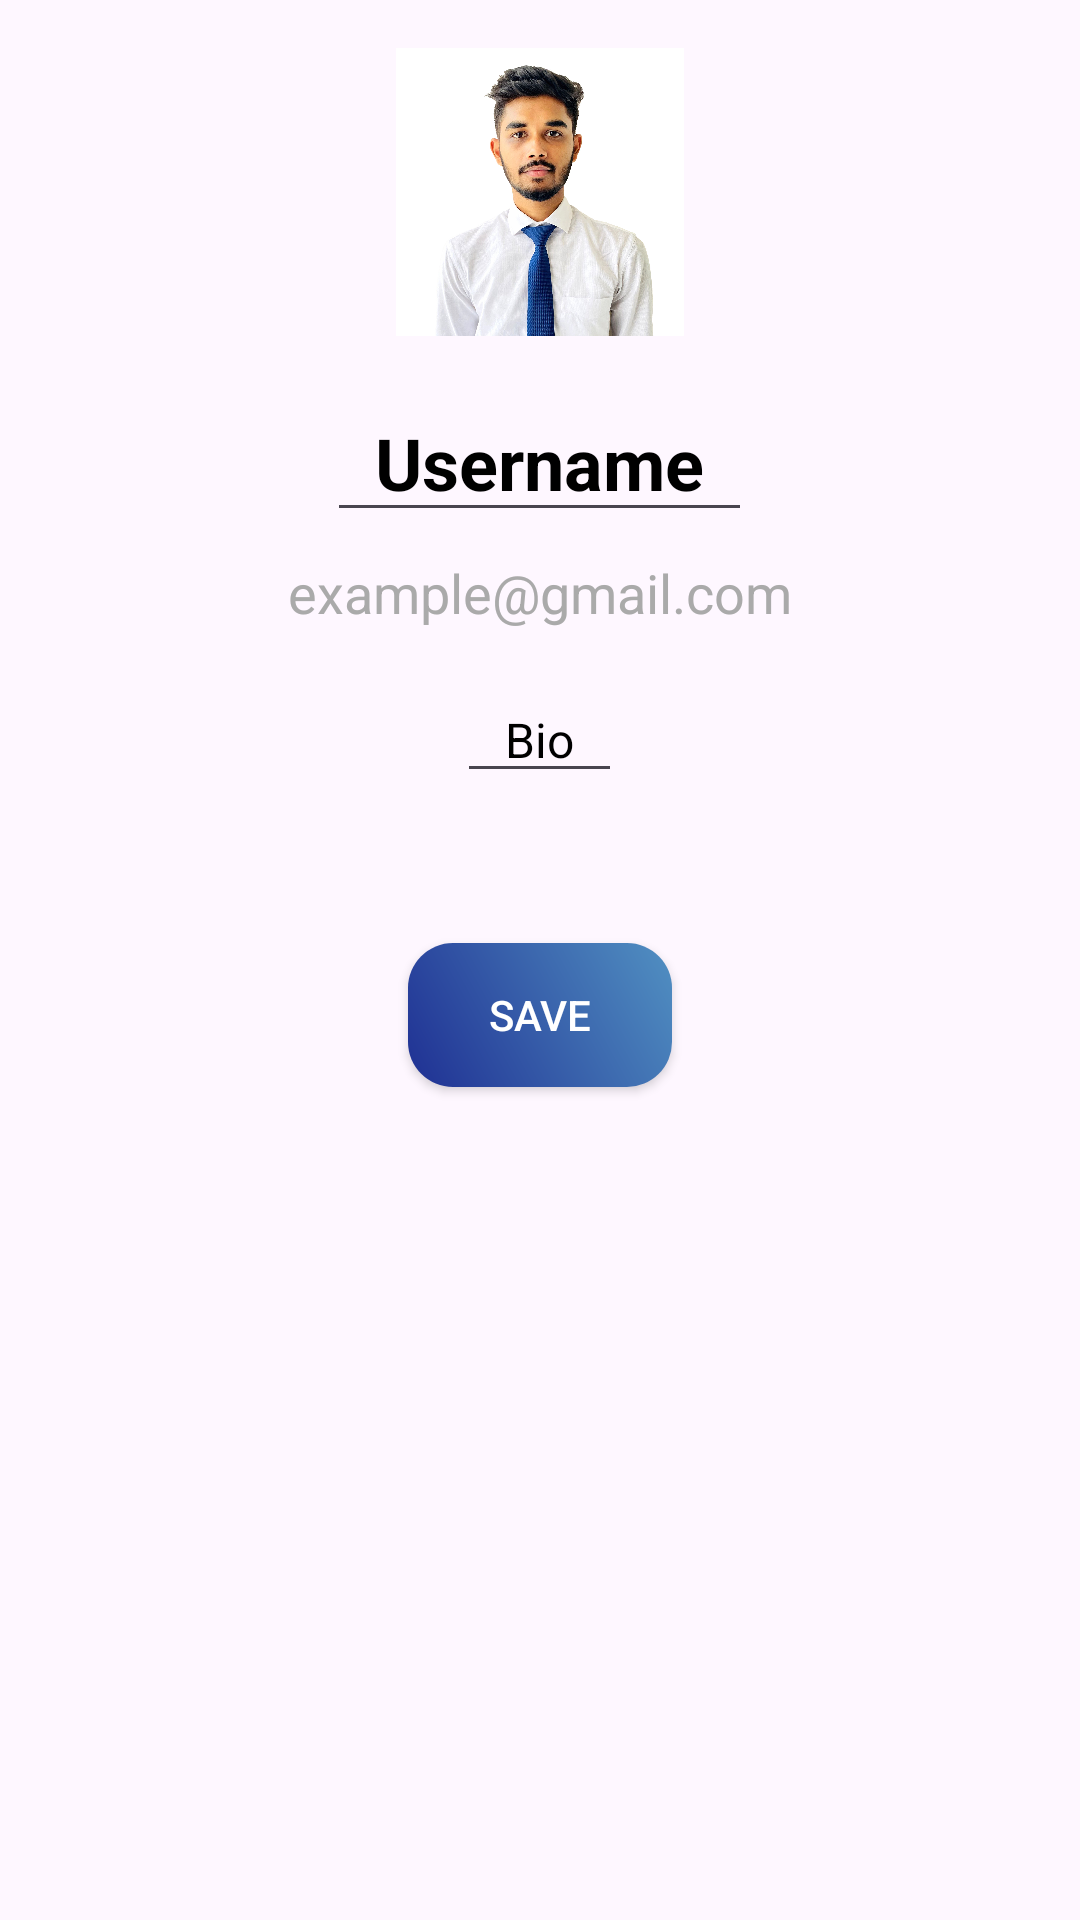

Named icons in this screenshot (1080px x 1920px) and their bounding boxes, (x1, y1, x2, y2):
Profile Image: (440, 65, 653, 336)
